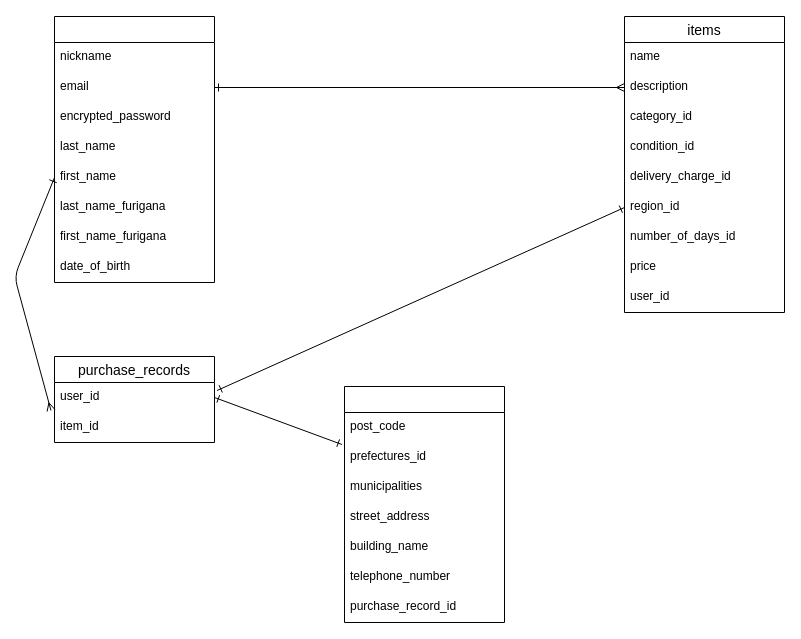
Some shapes in this 801 by 639 pixel diagram are drawn without their labels. Here are the shapes that lost their labels. From the top down, the box of each, then its label:
(54, 16, 214, 282): users
(344, 386, 504, 622): shipping_adresses
